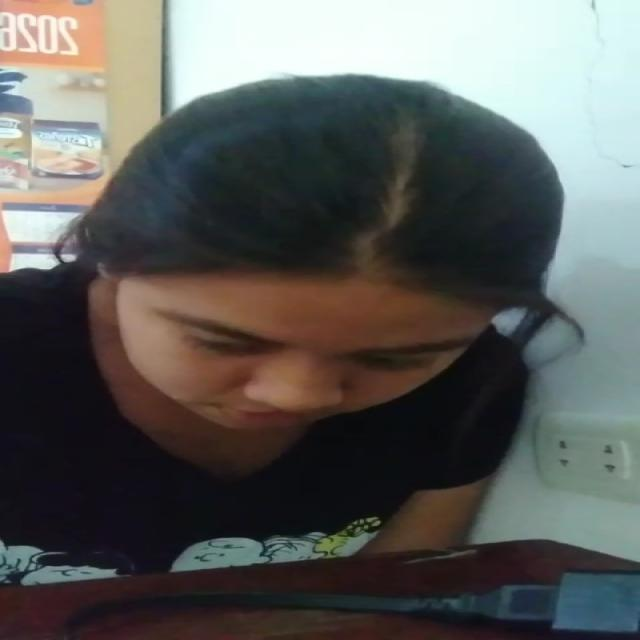9_cabeza_baja: (87, 76, 564, 430)
